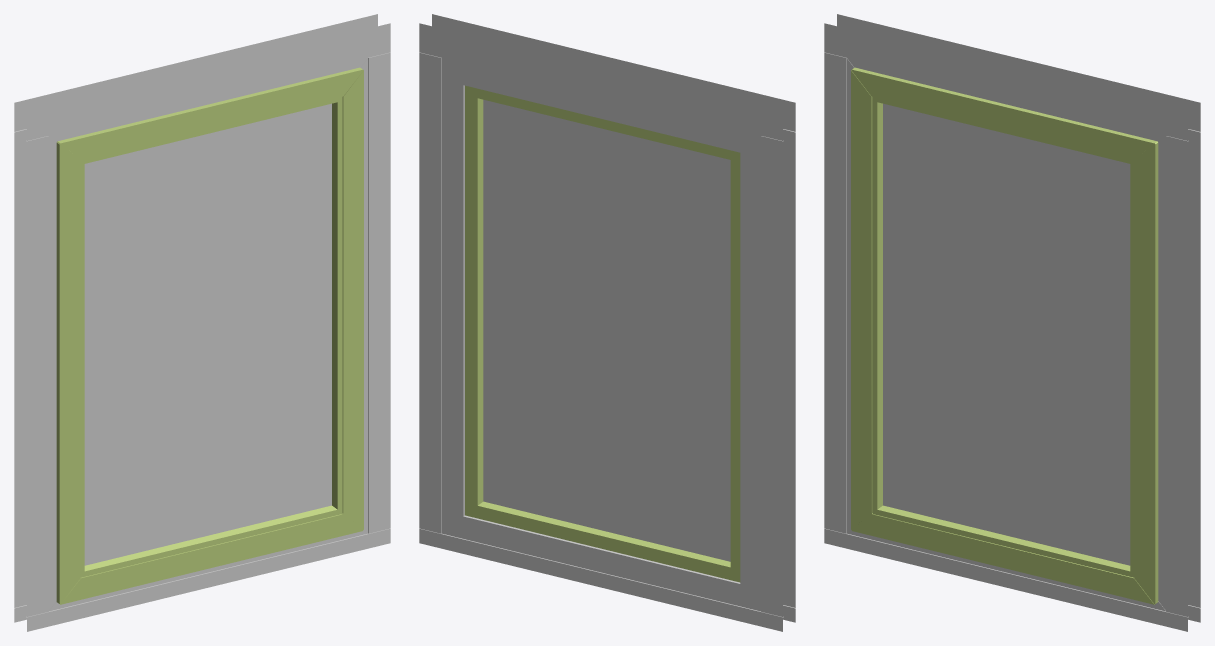
The model's file is additional-window.fbx.
3 views of the same model, side by side, from view 1: azimuth 30°, elevation 25°; view 2: azimuth 150°, elevation 25°; view 3: azimuth 330°, elevation 25° (orthographic).
Parts seen in each view (by area): view 1: sticla.001, rama, carcasa; view 2: sticla, rama, carcasa; view 3: sticla.001, rama, carcasa.
Part boxes in pixels (x1,y1,x2,y2): sticla.001: (84, 103, 331, 565); rama: (14, 14, 390, 631); carcasa: (56, 67, 363, 604); sticla: (483, 99, 730, 561); rama: (419, 14, 795, 631); carcasa: (465, 85, 740, 582); sticla.001: (883, 103, 1130, 565); rama: (824, 14, 1200, 631); carcasa: (851, 67, 1158, 604).
Size of the model in its own units: 104 by 142 by 7.69.
